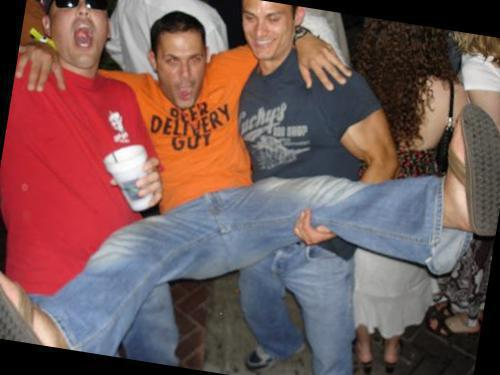Drunk: (154, 30, 210, 106), (55, 3, 108, 67), (242, 2, 290, 56)
